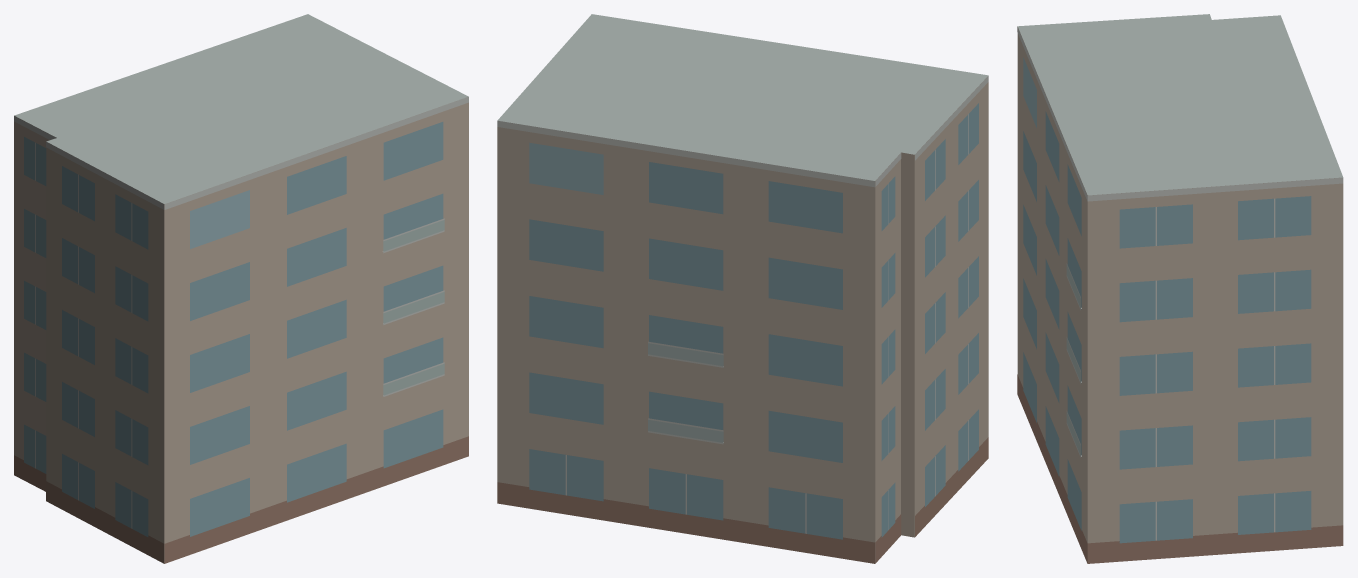
The model's file is survey-upis-32733627.glb.
3 views of the same model, side by side, from view 1: azimuth 30°, elevation 25°; view 2: azimuth 150°, elevation 25°; view 3: azimuth 270°, elevation 25° (orthographic). The views are drawn at different scales.
Parts seen in each view (by area): view 1: survey-upis-32733627.tmp; view 2: survey-upis-32733627.tmp; view 3: survey-upis-32733627.tmp.
Boxes of the visible parts, x1,y1,x2,y2 form: survey-upis-32733627.tmp: (14,14,468,563); survey-upis-32733627.tmp: (497,14,988,563); survey-upis-32733627.tmp: (1017,14,1343,563).
Bounding box in the file's own units: 15.7 × 14.85 × 11.91.
